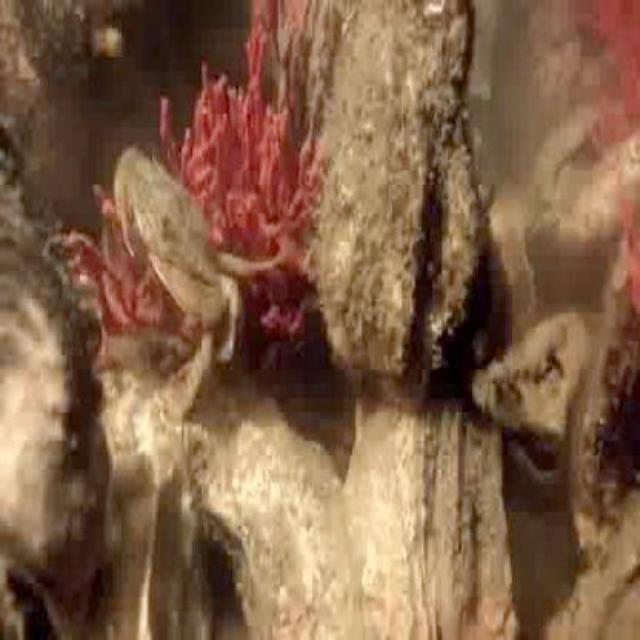Oyster-Closed: (0, 162, 110, 587), (0, 114, 28, 183)
Oyster-Open: (324, 0, 488, 384), (0, 551, 65, 638)
